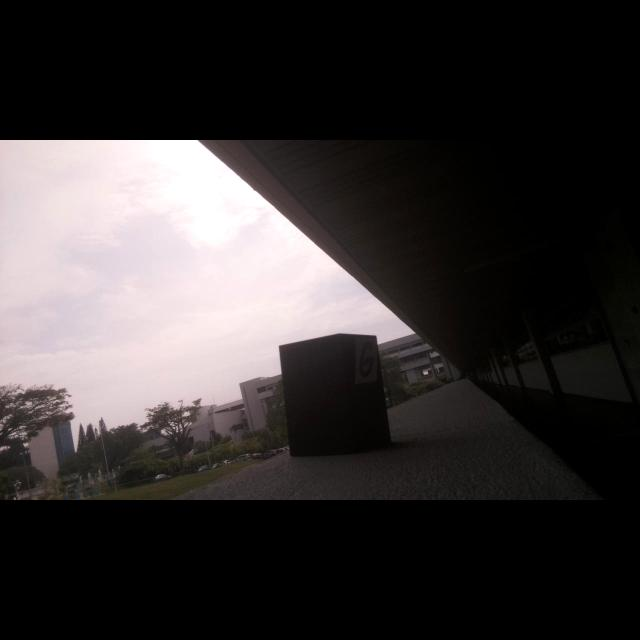G: (360, 342, 373, 377)
